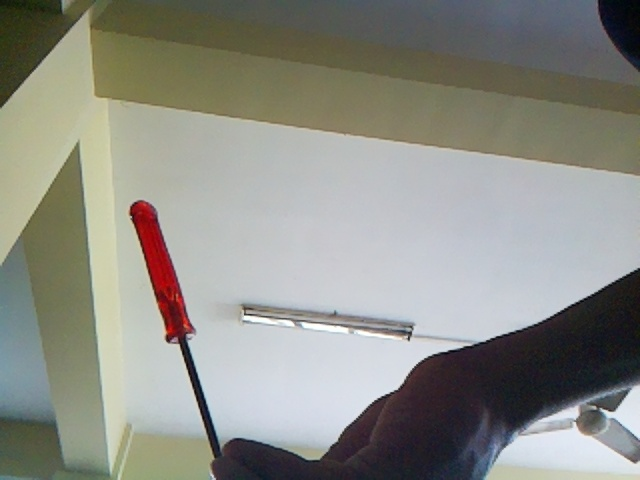redskrew: (120, 199, 224, 439)
